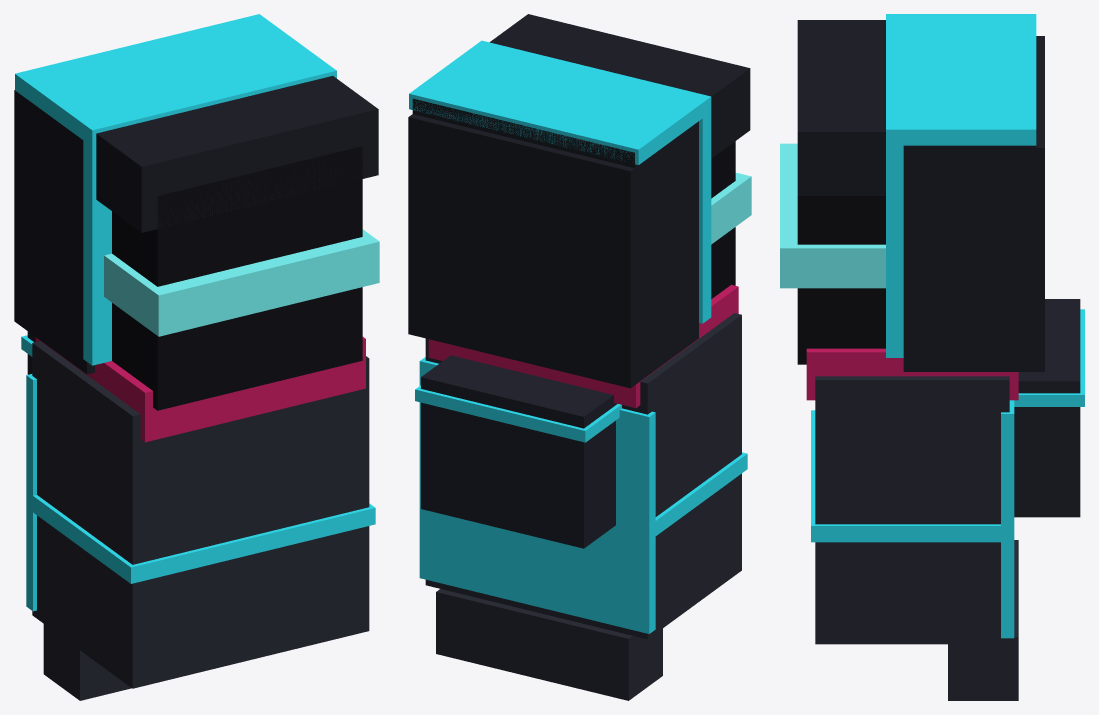
The model's file is runner_body.obj.
3 views of the same model, side by side, from view 1: azimuth 30°, elevation 25°; view 2: azimuth 150°, elevation 25°; view 3: azimuth 270°, elevation 25° (orthographic). The views are drawn at different scales.
Parts seen in each view (by area): view 1: runner_body; view 2: runner_body; view 3: runner_body.
Part boxes in pixels (<box>): runner_body: <box>14,14,379,700</box>; runner_body: <box>408,14,751,700</box>; runner_body: <box>780,14,1084,700</box>.
Bounding box in the file's own units: 0.31 × 0.725 × 0.345.
1 material, 1 textured.
